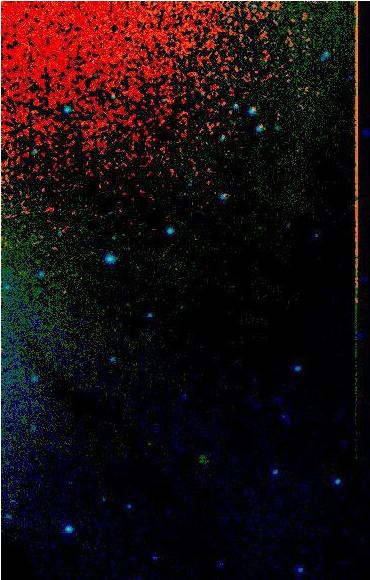star: (135, 430, 165, 460)
